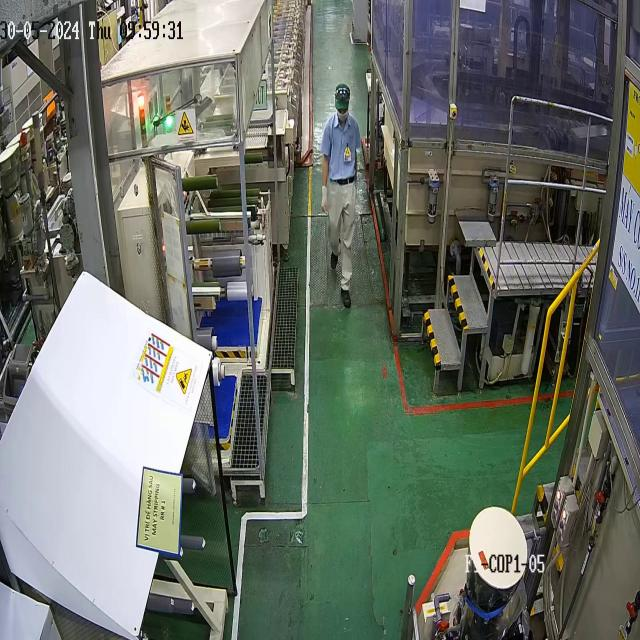Person: (321, 82, 362, 308)
